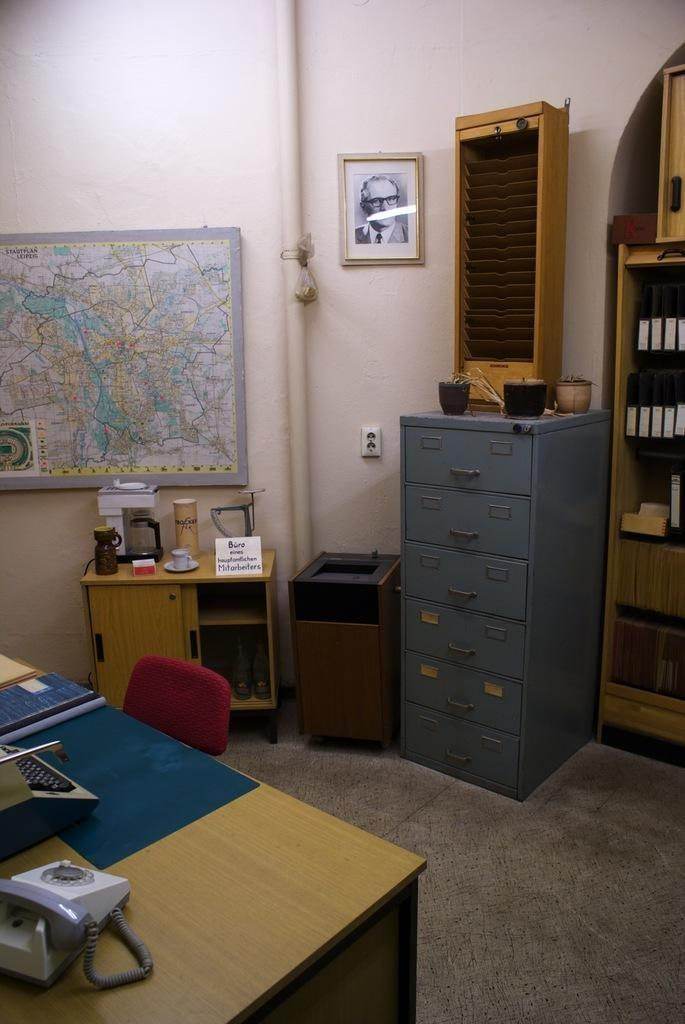Filing Cabinet: (397, 416, 538, 802)
Meja: (0, 651, 429, 1021)
